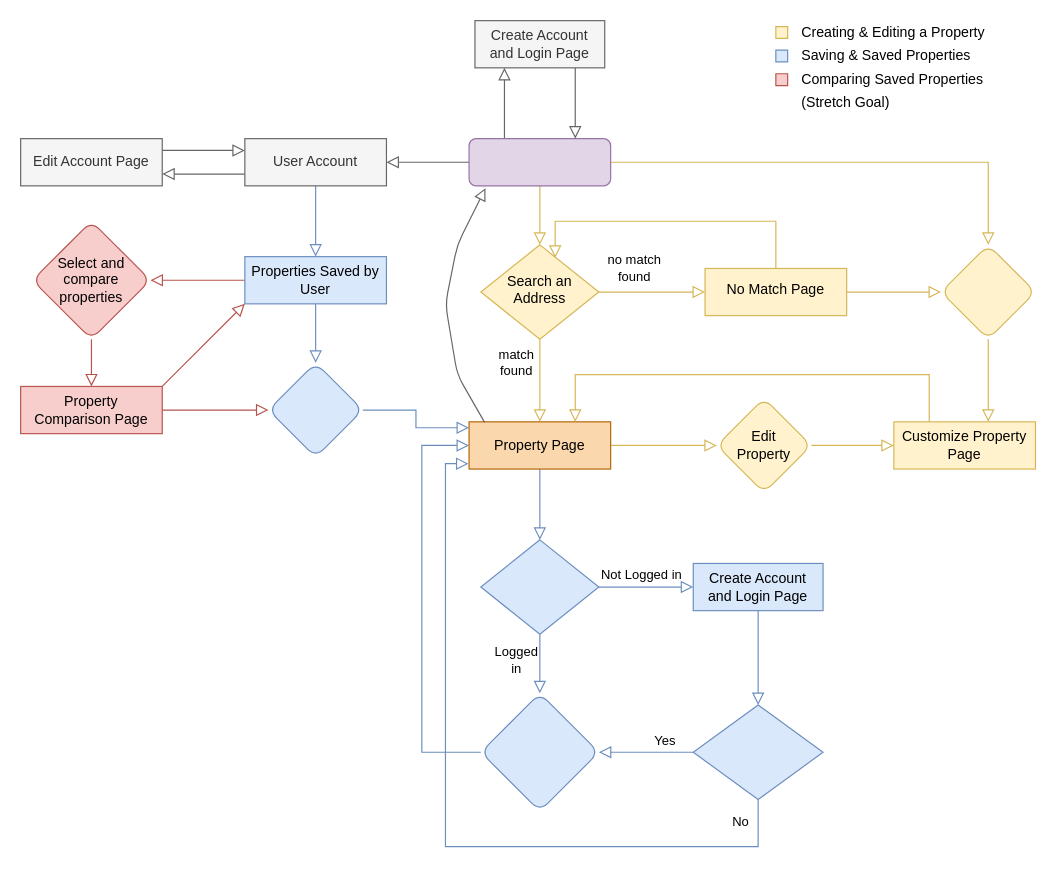
This 1056x879 diagram has some shape labels left out. Each missing label, with the centre of its shape:
"Create Custom Property" belongs at [987,291].
"Home Page / Create New Property" belongs at [539,161].
"Logged in?" belongs at [757,751].
"Property Saved / Removed" belongs at [539,751].
"Save or Remove Property" belongs at [539,586].
"View Saved Property" belongs at [315,409].
